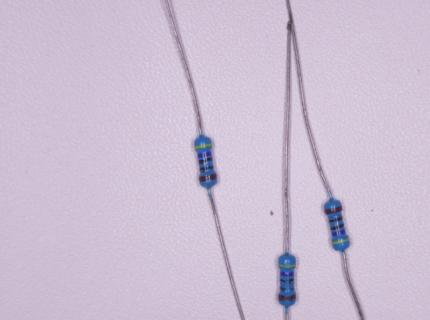Black band: (331, 223, 344, 230), (199, 158, 213, 164), (328, 216, 342, 222), (280, 286, 294, 291), (200, 166, 213, 171), (280, 278, 294, 282)
Brown band: (324, 205, 342, 215), (199, 174, 217, 182), (278, 293, 296, 300)
Violet band: (331, 229, 346, 237), (280, 271, 294, 277), (198, 152, 212, 158)
Yellow band: (332, 237, 350, 244), (195, 143, 213, 150), (278, 263, 296, 268)
